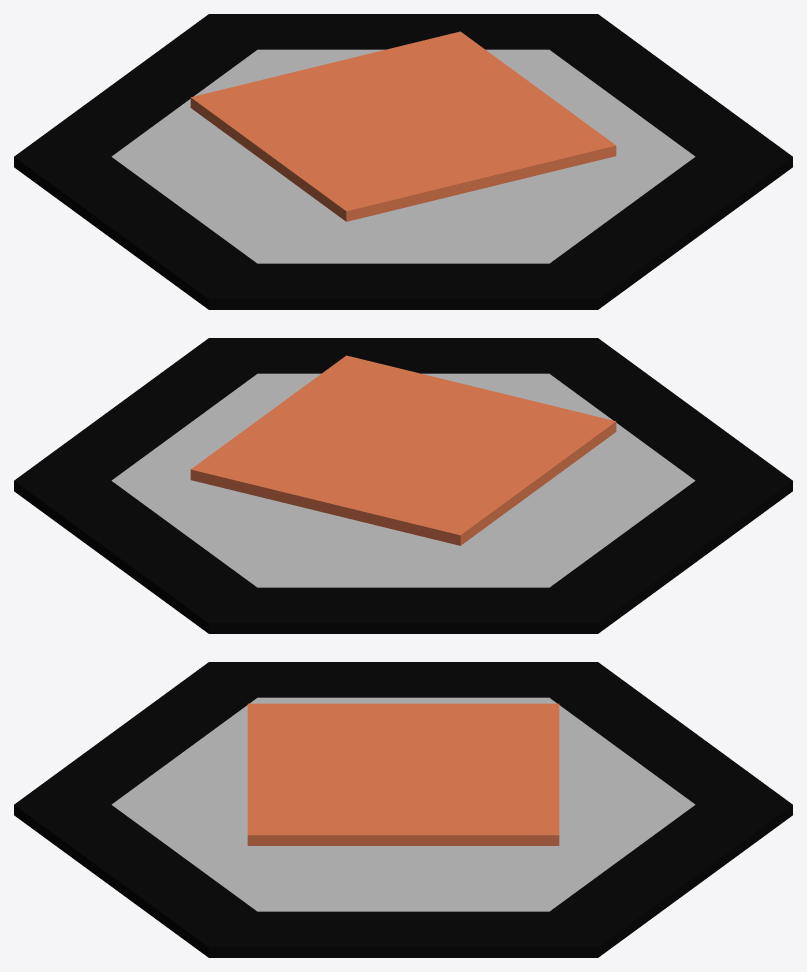
The model's file is cube_opt.fbx.
3 views of the same model, one above another, from view 1: azimuth 30°, elevation 25°; view 2: azimuth 150°, elevation 25°; view 3: azimuth 270°, elevation 25° (orthographic).
Visible parts, largest first — view 1: Circle; view 2: Circle; view 3: Circle.
Part boxes in pixels (bbox=[...]): Circle: bbox=[14, 14, 792, 309]; Circle: bbox=[14, 338, 792, 633]; Circle: bbox=[14, 662, 792, 957].
Bounding box in the file's own units: 173 × 13 × 200.
